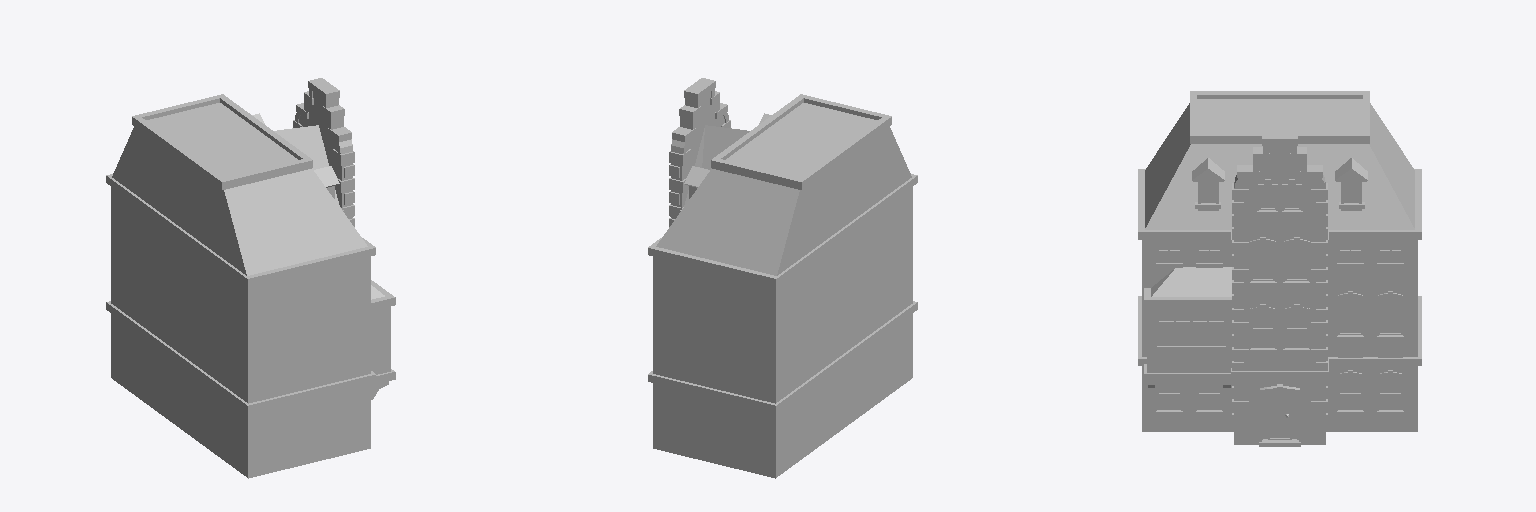
Rendered from House6.obj.
3 renders of one model, left to right at view 1: azimuth 30°, elevation 25°; view 2: azimuth 150°, elevation 25°; view 3: azimuth 270°, elevation 25°, orthographic.
Parts seen in each view (by area): view 1: House6:Cube_558; view 2: House6:Cube_558; view 3: House6:Cube_558.
Part boxes in pixels (x1,y1,x2,y2): House6:Cube_558: (106,78,395,478); House6:Cube_558: (648,78,917,478); House6:Cube_558: (1138,91,1421,446).
Size of the model in its own units: 7.85 by 14.55 by 12.17.